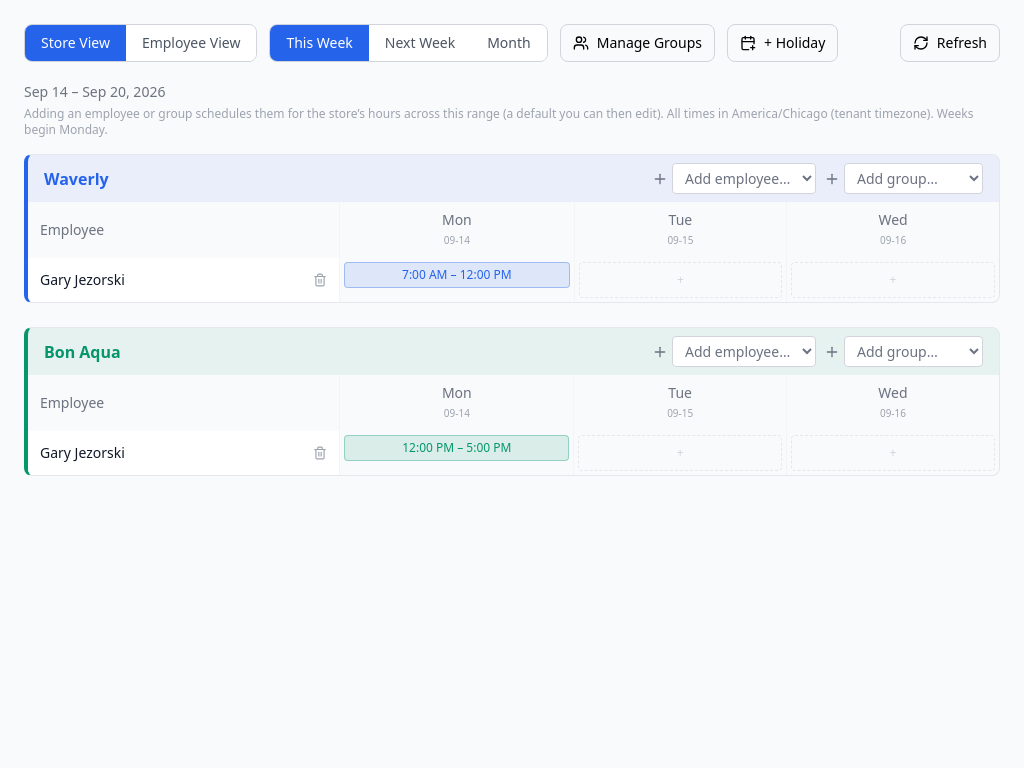
Scenario: Store View › a rejected store move surfaces the conflict without corrupting the grid
Click the button "7:00 AM – 12:00 PM": (457, 275) [344,262,570,288]
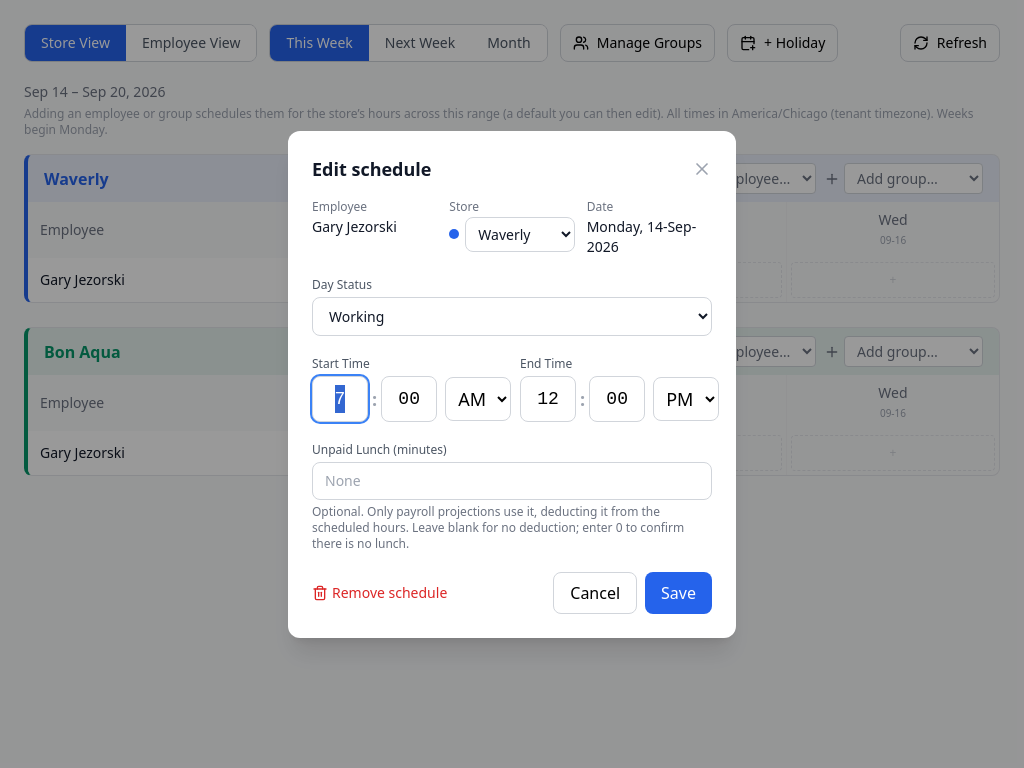
Select "Bon Aqua" in the dropdown labelled "Store": (520, 234) [465,216,575,252]
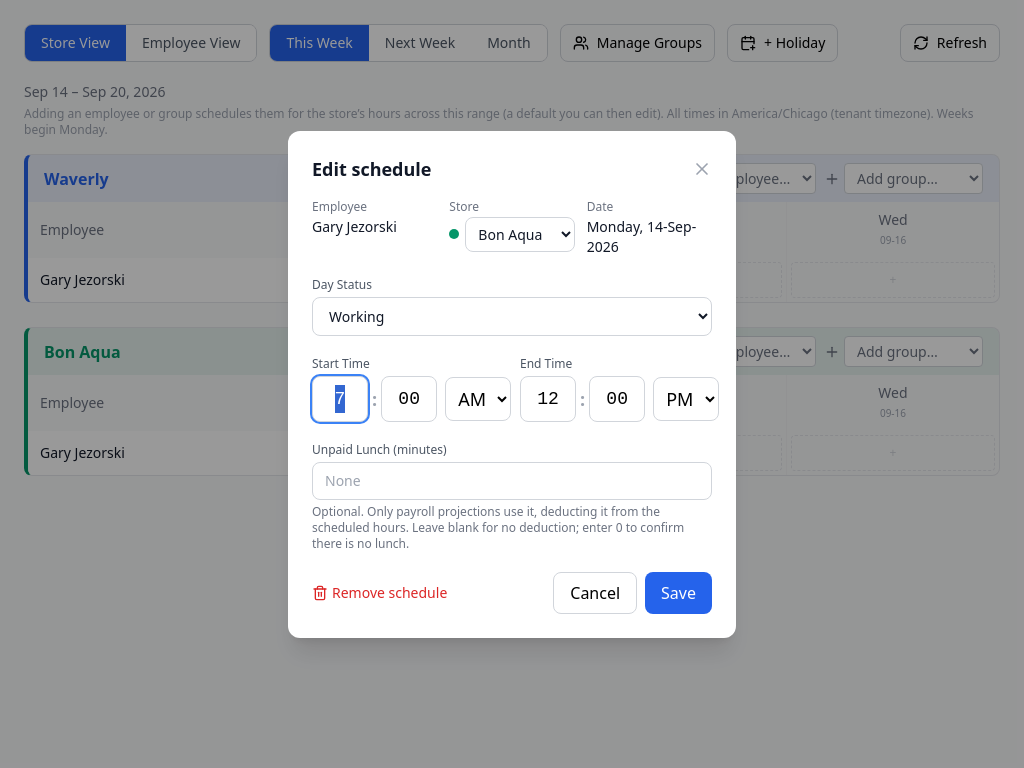
Click the button "Save": (679, 592) [645,572,712,614]
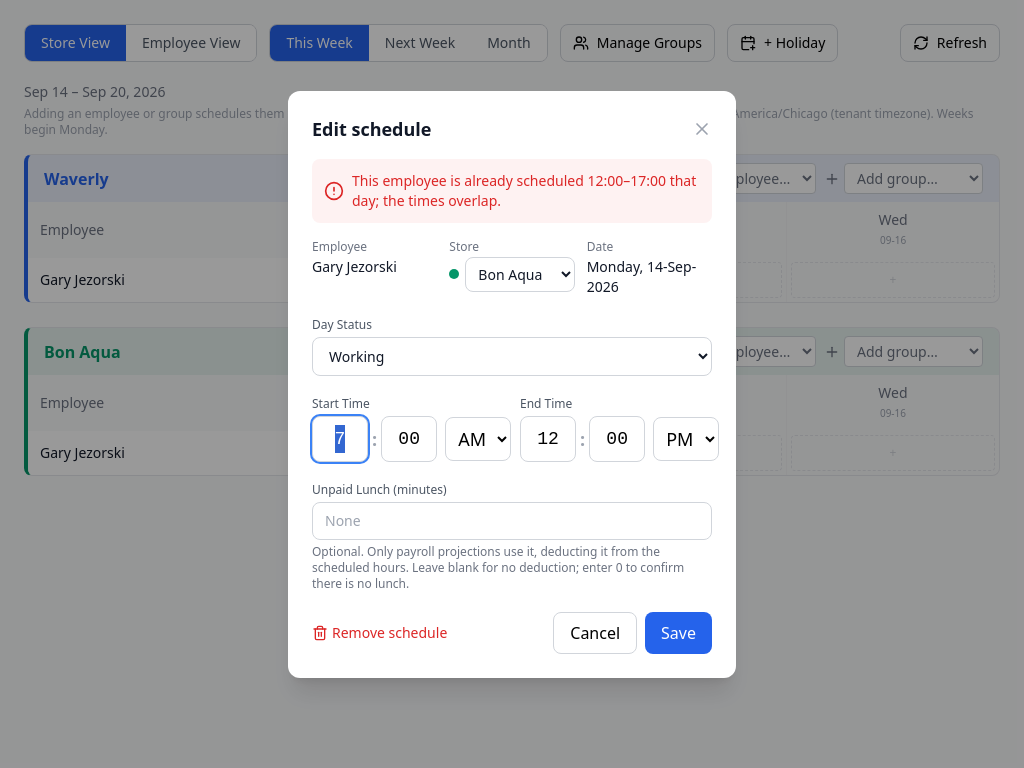
Now the heading "Edit schedule" is shown, box [312,114,432,142]
Now the text "times overlap" is shown, box [352,170,696,210]
